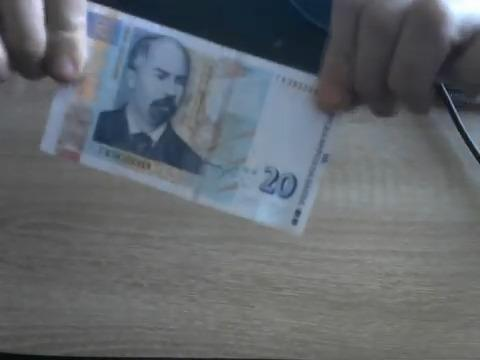20leva: (56, 4, 337, 238)
